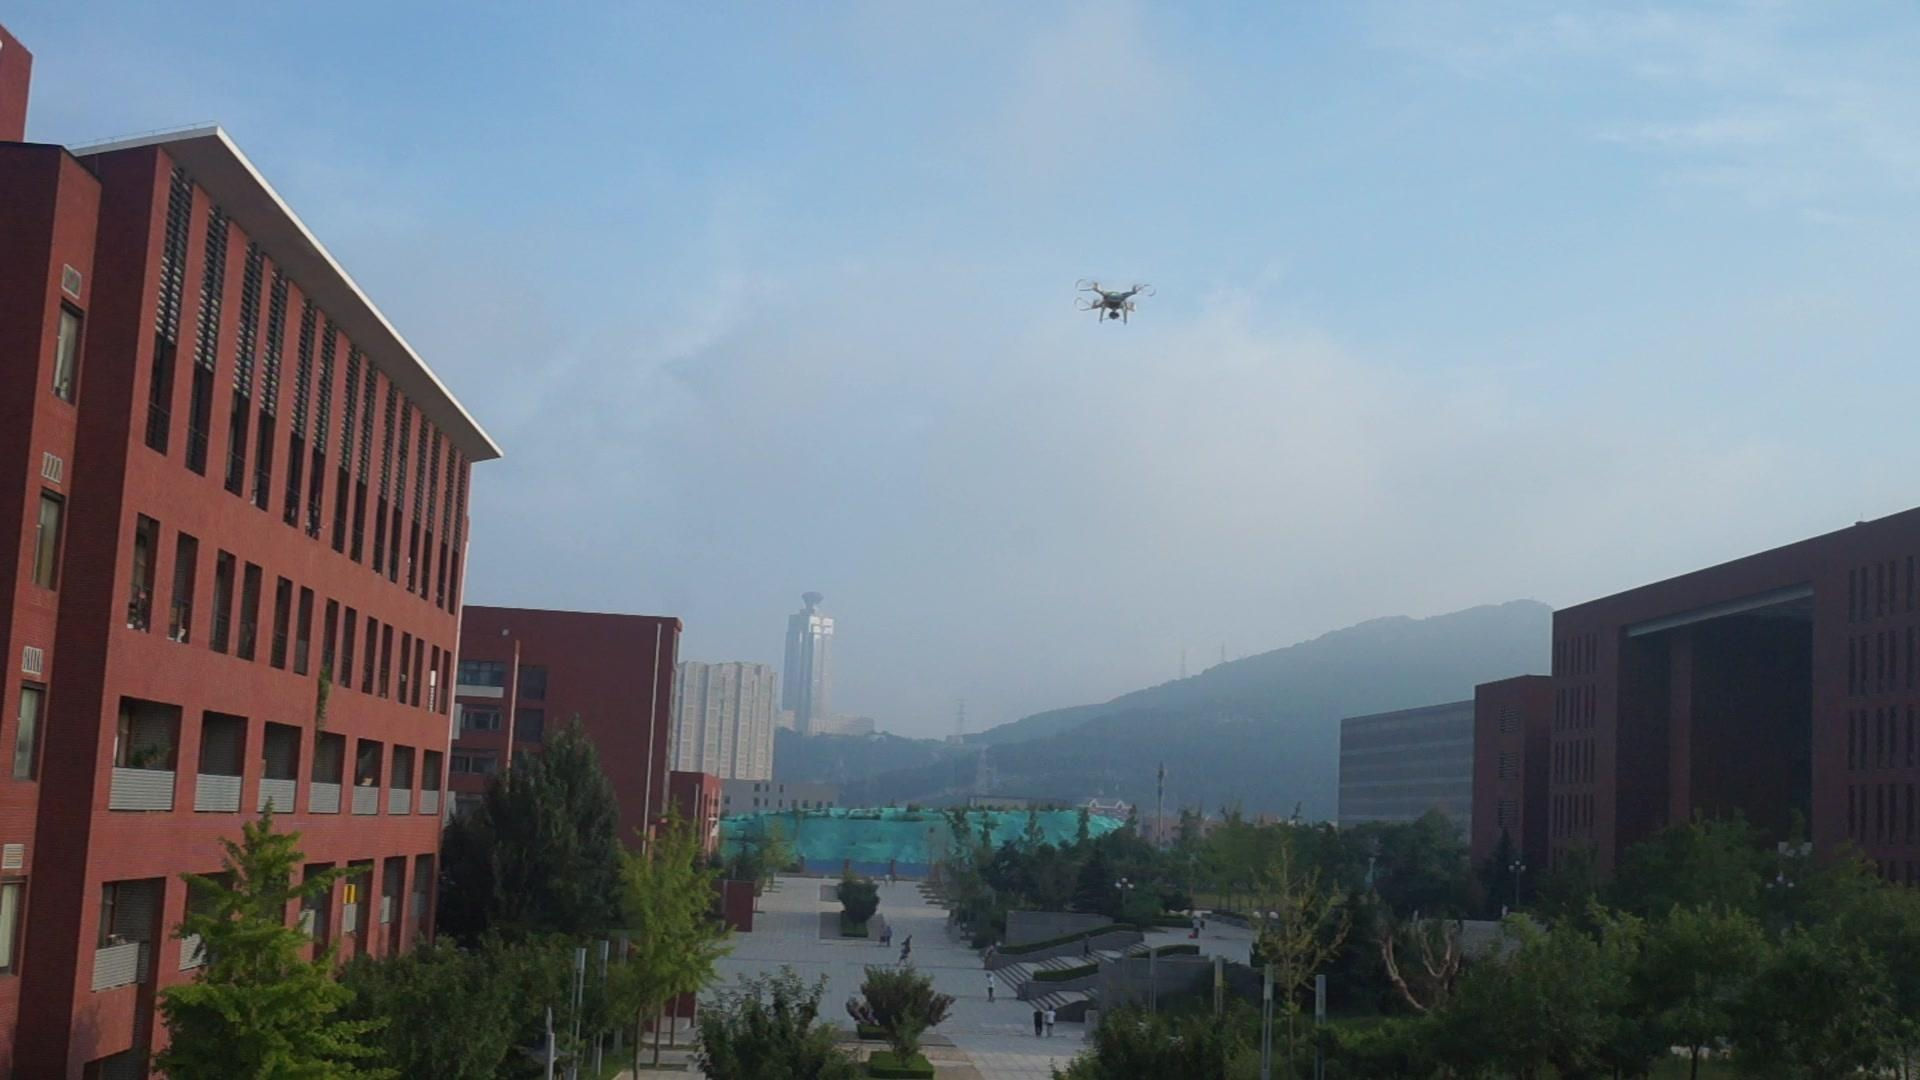UAV: (1075, 278, 1158, 324)
